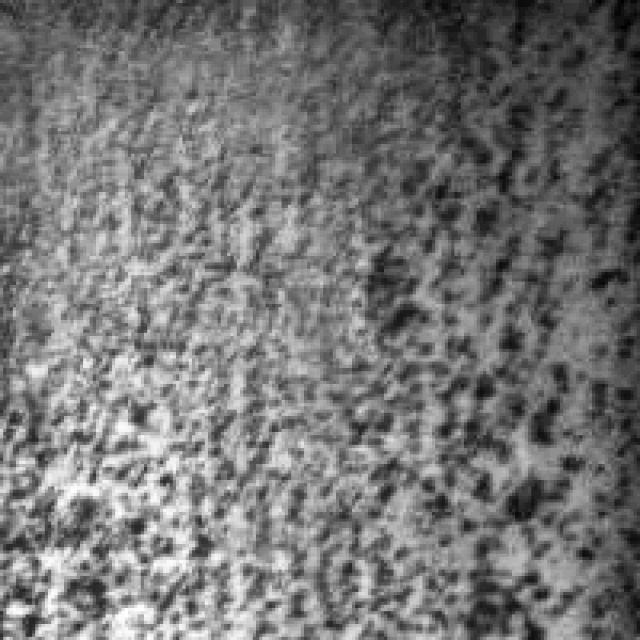Rolled_in_Scale: (0, 29, 627, 637)
